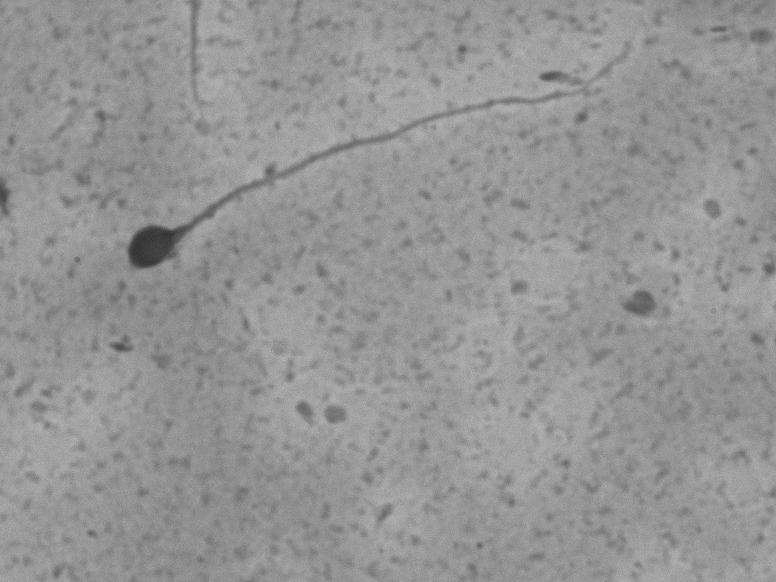Abnormal: (98, 31, 652, 302)
